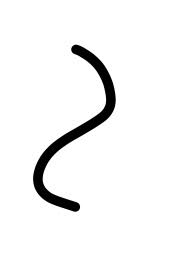o: (18, 116, 92, 220)
